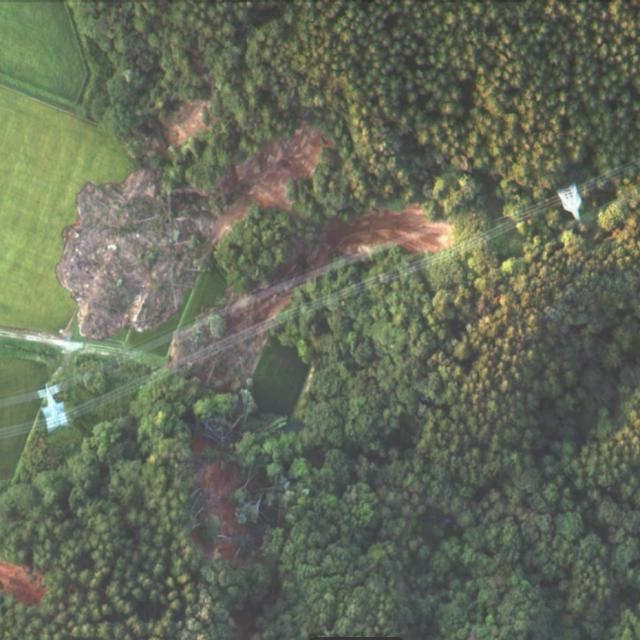landslide: (56, 124, 331, 339), (170, 206, 453, 391), (152, 99, 208, 150)
